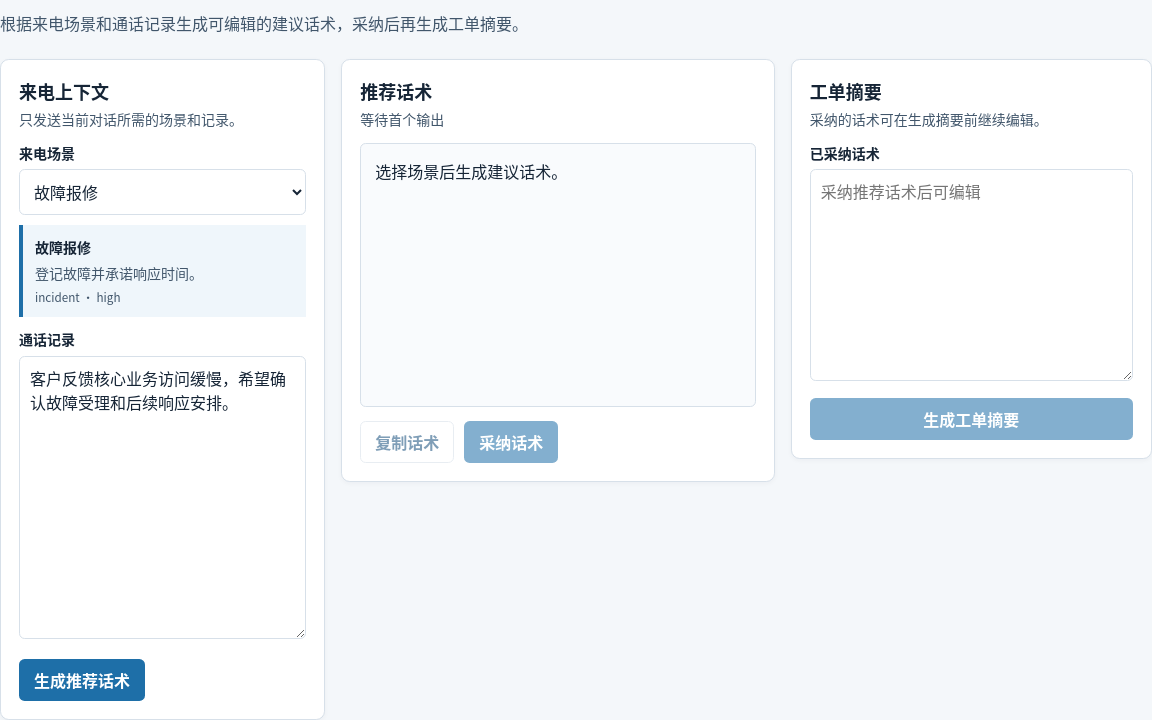
Test: stops an in-flight stream with its AbortController
(page scrolled)
Click the button "生成推荐话术". click: (82, 680)
box: [19,659,145,701]
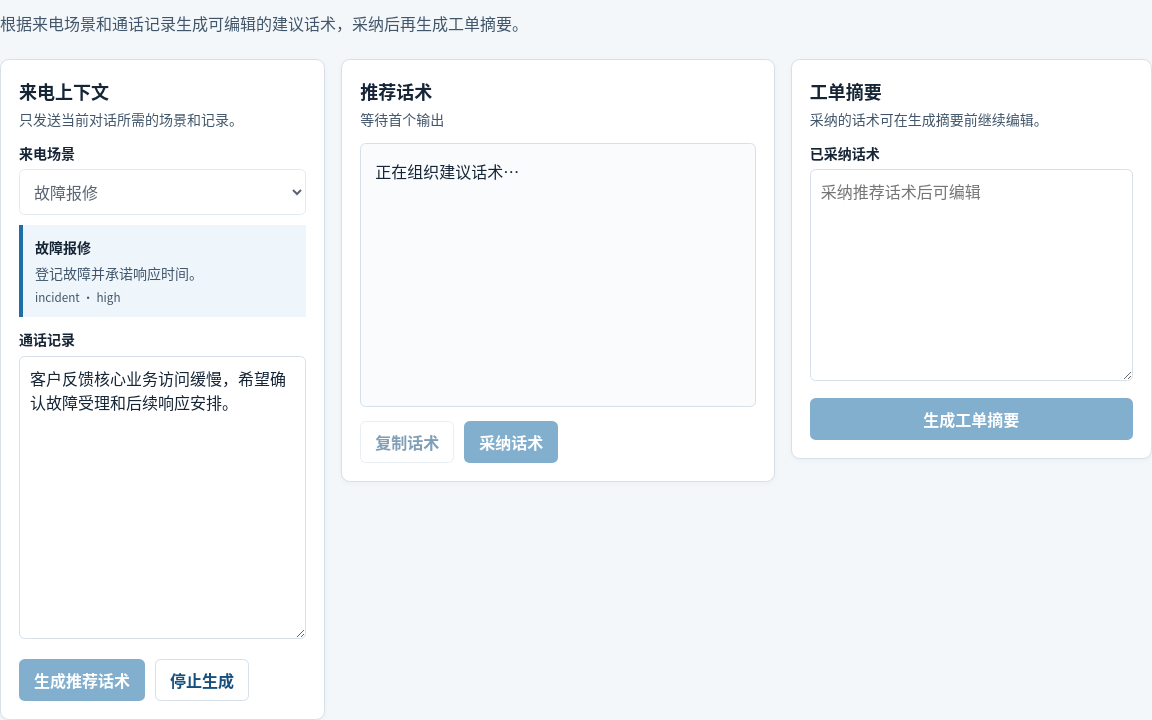
Click the button "停止生成". click: (202, 680)
box: [155,659,249,701]
(page scrolled)
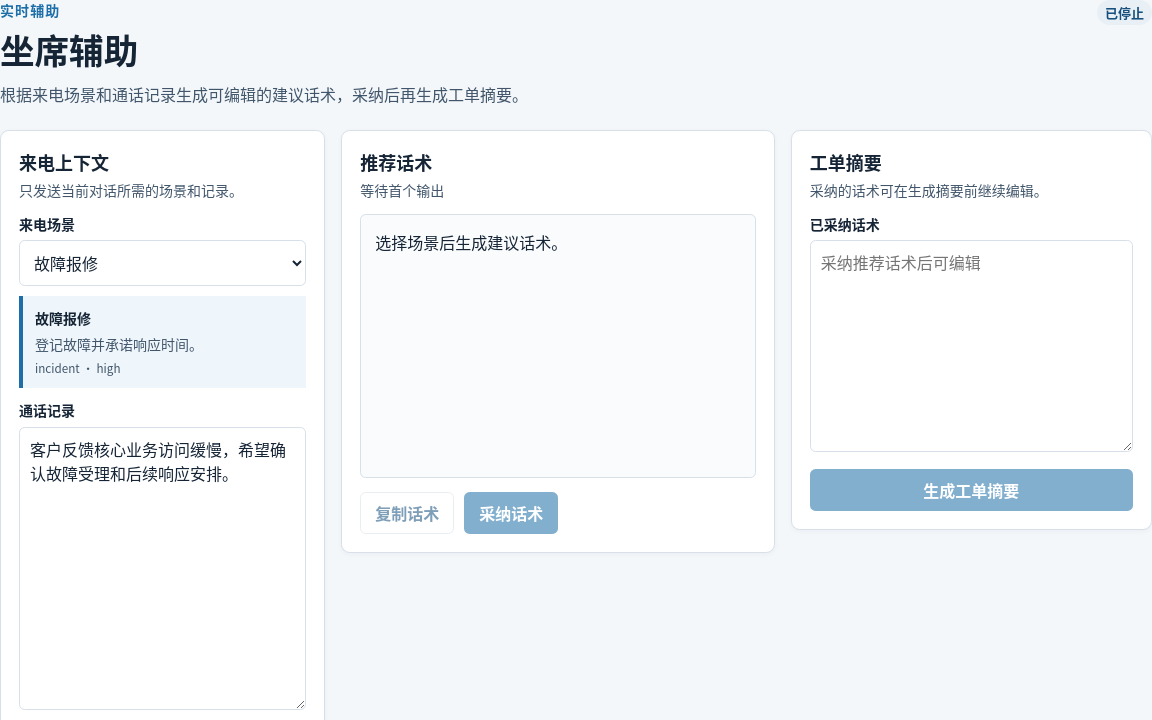
Result: the text "已停止" is shown at [1097,0,1151,25]
